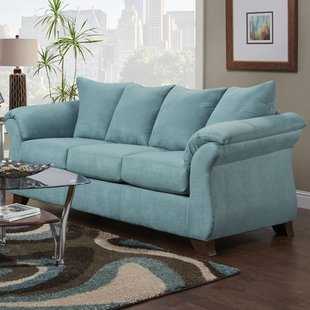chairs: (5, 75, 304, 260)
